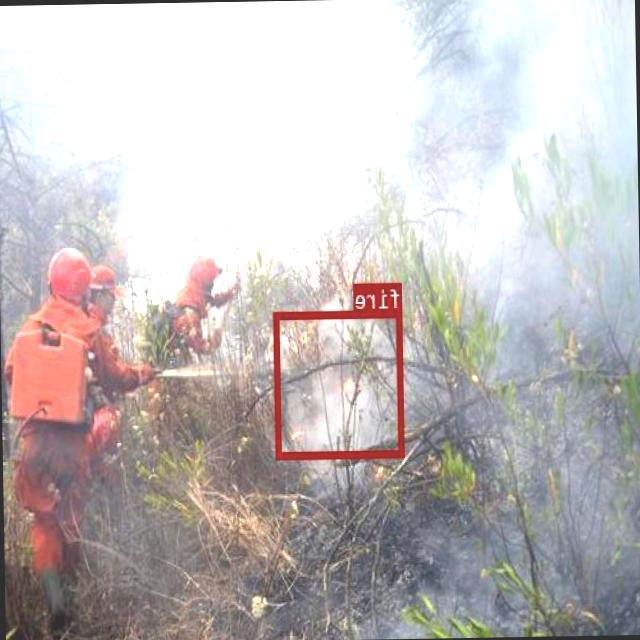fire: (274, 308, 405, 457)
